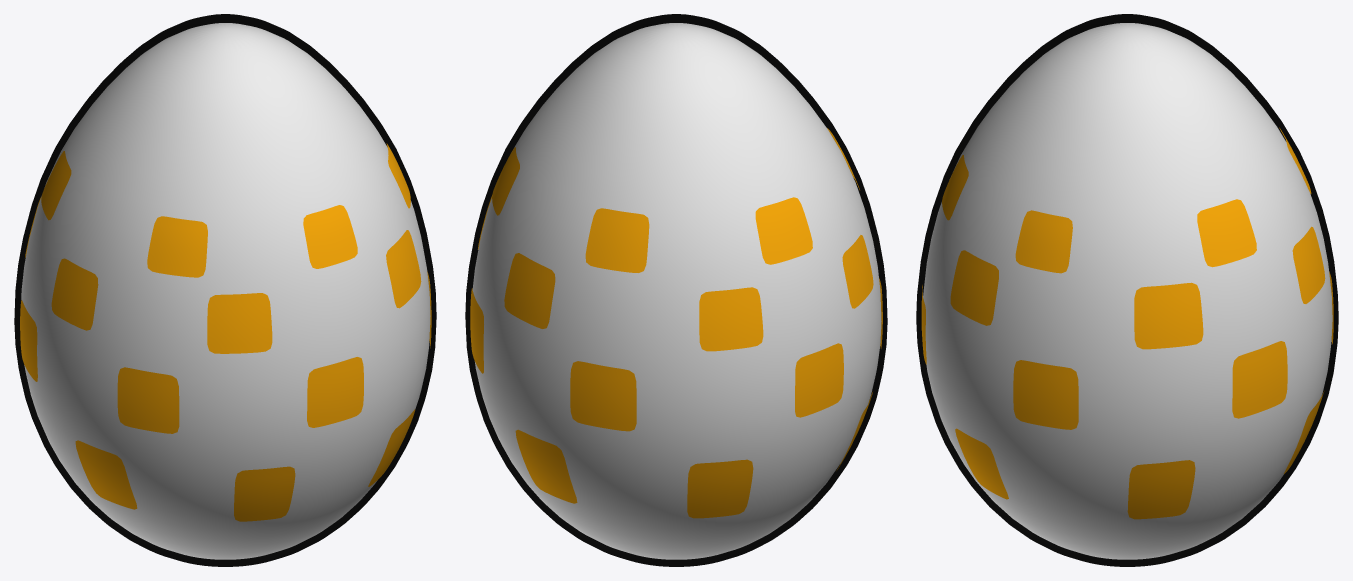
Rendered from Egg.glb.
The picture shows the model from 3 angles, left to right: view 1: azimuth 30°, elevation 25°; view 2: azimuth 150°, elevation 25°; view 3: azimuth 270°, elevation 25°; orthographic projection.
Parts seen in each view (by area): view 1: Sphere, Sphere.002, Sphere.001; view 2: Sphere, Sphere.002, Sphere.001; view 3: Sphere, Sphere.002, Sphere.001.
Boxes of the visible parts, x1,y1,x2,y2 form: Sphere: (21,23,430,559); Sphere.002: (20,143,431,521); Sphere.001: (14,14,436,566); Sphere: (472,23,881,559); Sphere.002: (470,128,882,518); Sphere.001: (465,14,887,566); Sphere: (923,23,1332,559); Sphere.002: (921,127,1333,519); Sphere.001: (916,14,1338,566).
Bounding box in the file's own units: 2.22 × 3.07 × 2.22.
